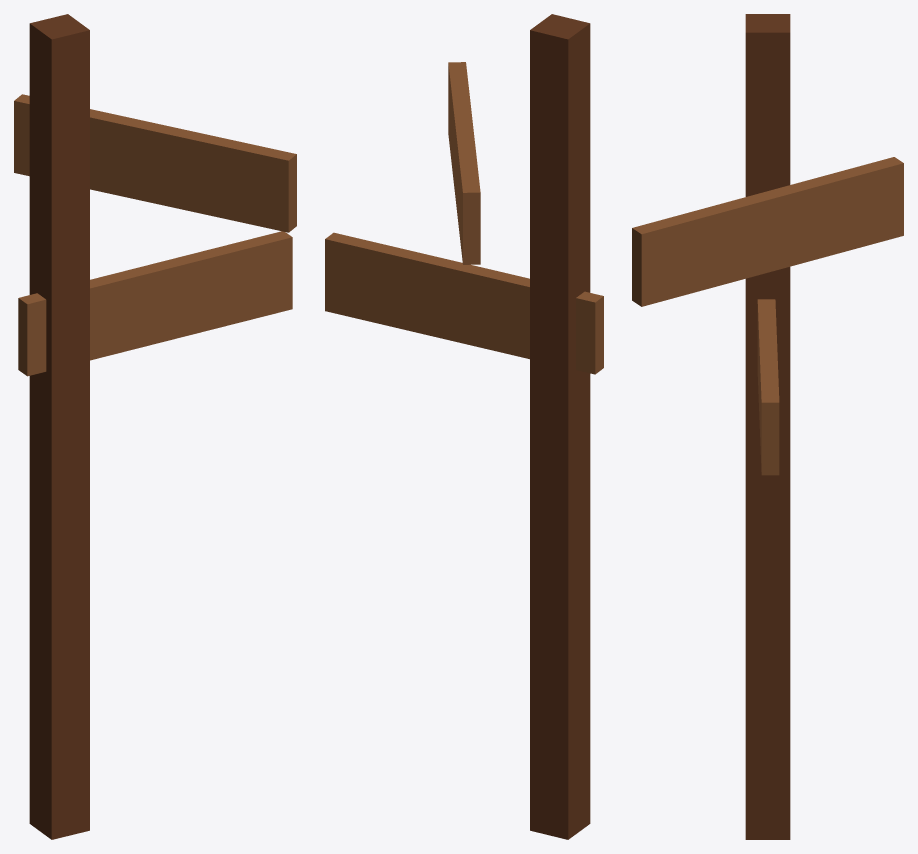
File: signpost.glb
3 renders of one model, left to right at view 1: azimuth 30°, elevation 25°; view 2: azimuth 150°, elevation 25°; view 3: azimuth 270°, elevation 25°, orthographic.
Visible parts, largest first — view 1: props/signpost; view 2: props/signpost; view 3: props/signpost.
Part boxes in pixels (box(x1,y1,x2,y2)): props/signpost: box(14, 14, 296, 839); props/signpost: box(325, 14, 603, 839); props/signpost: box(632, 14, 903, 839).
Bounding box in the file's own units: 0.7006 × 2 × 0.6106.
